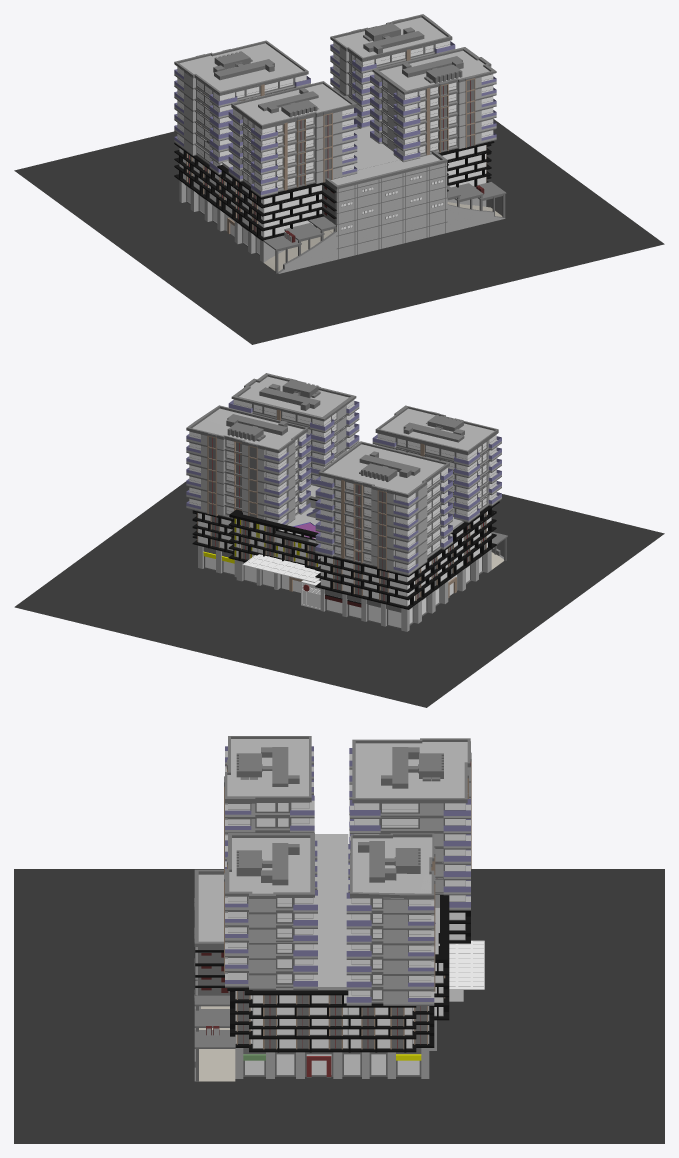
3 renders of one model, top to bottom at view 1: azimuth 30°, elevation 25°; view 2: azimuth 150°, elevation 25°; view 3: azimuth 270°, elevation 25°, orthographic. The views are drawn at different scales.
Parts seen in each view (by area): view 1: Plane; view 2: Plane; view 3: Plane.
Part boxes in pixels (box(x1,y1,x2,y2)): Plane: box(14, 14, 664, 344); Plane: box(14, 373, 664, 707); Plane: box(14, 736, 664, 1143).
Size of the model in its own units: 1807 by 604 by 1807.
